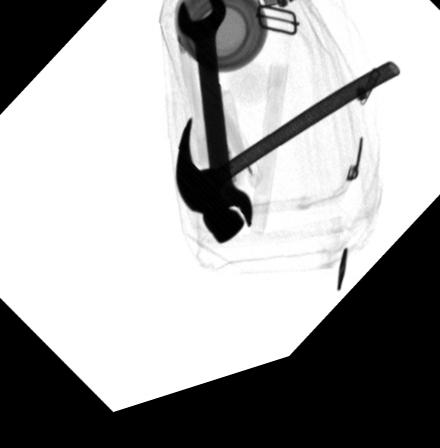Hammer: (174, 85, 398, 259)
Wrench: (176, 3, 252, 250)
